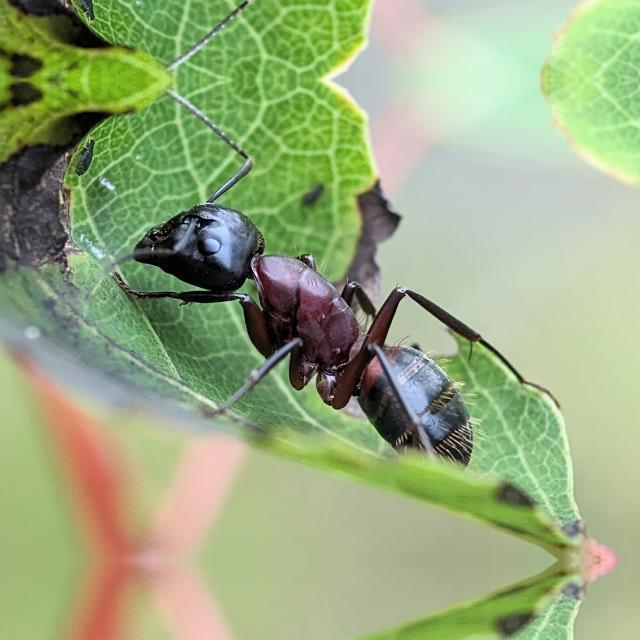Camponotus: (92, 147, 542, 501)
